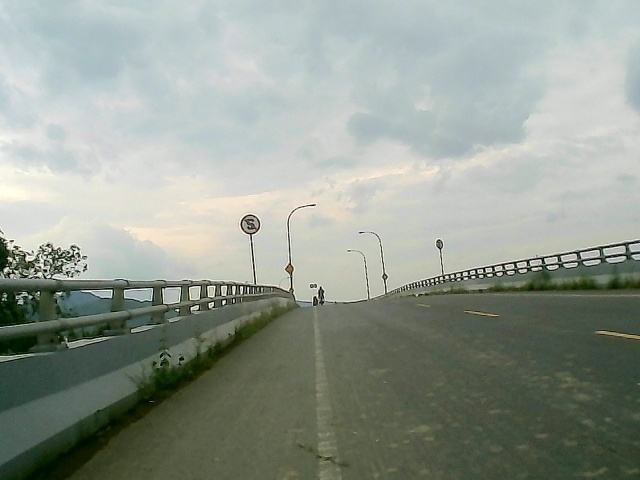Dilarang berhenti: (239, 213, 261, 235)
